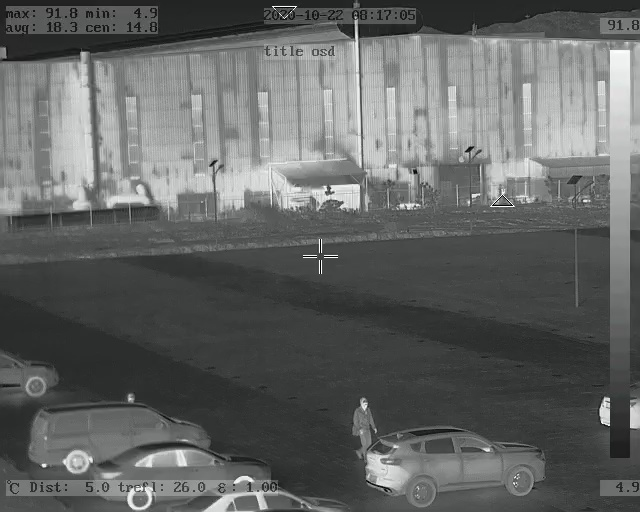person: (351, 398, 378, 457)
vehicle: (367, 425, 545, 506), (31, 403, 210, 475), (93, 443, 271, 507), (1, 348, 61, 401)
